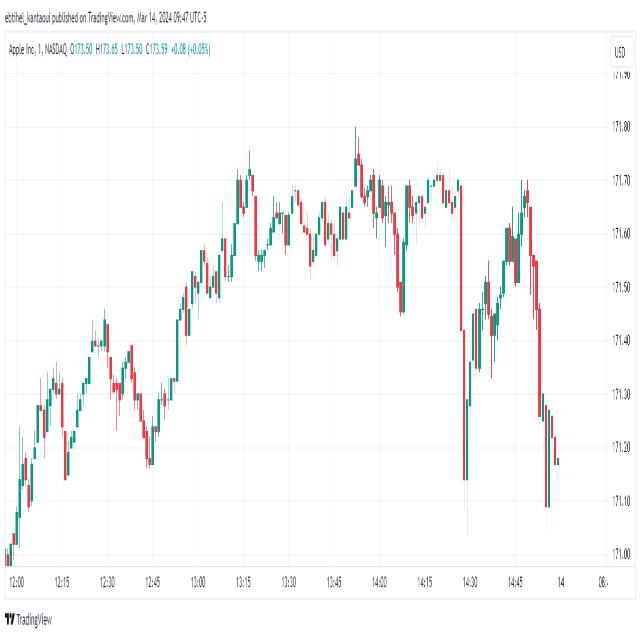Triple-Bottom: (245, 192, 359, 276)
